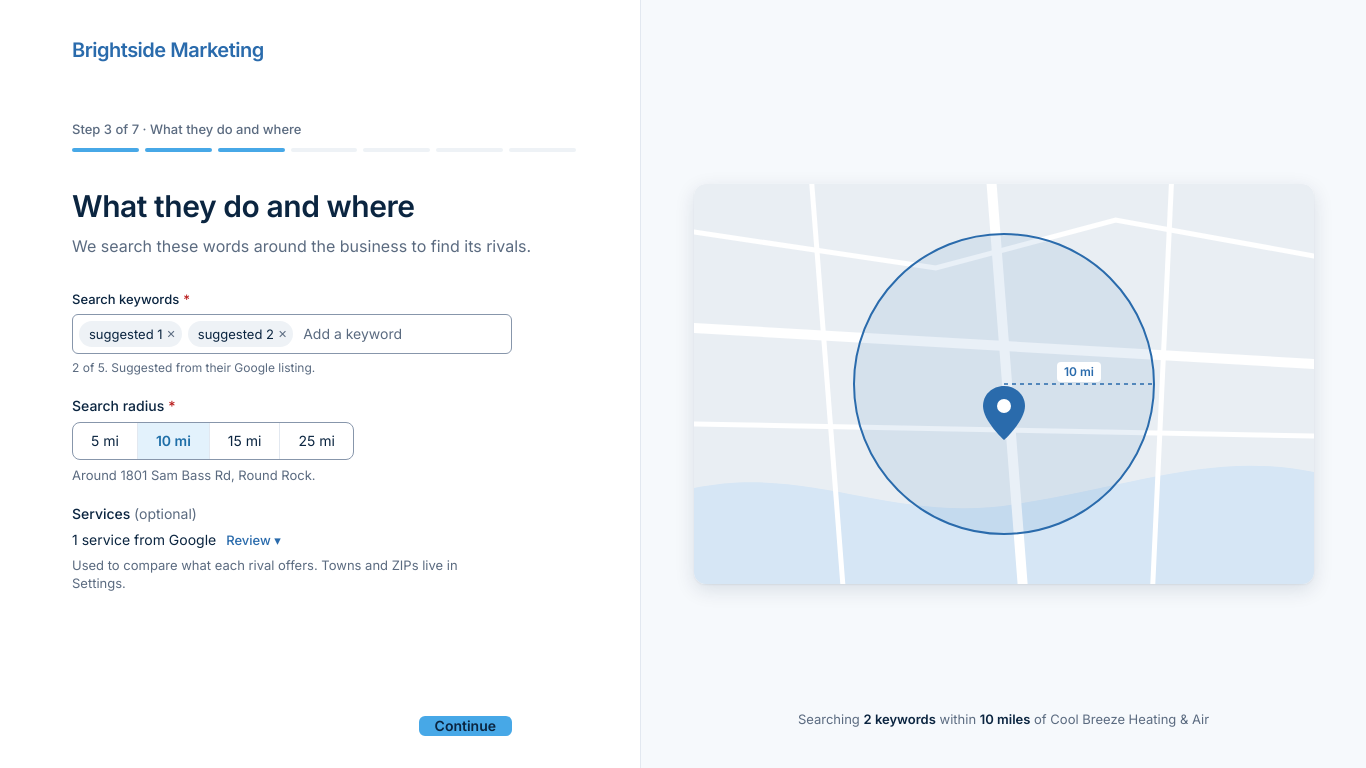
Scenario: AreaStep (client step 3) › services are a collapsed line that opens to the list
The width and height of the screenshot is (1366, 768).
Expected: the text "1 service from Google" is shown, [72, 530, 216, 550]
Click the button "Review ▾" at (254, 540), box [226, 531, 281, 549]
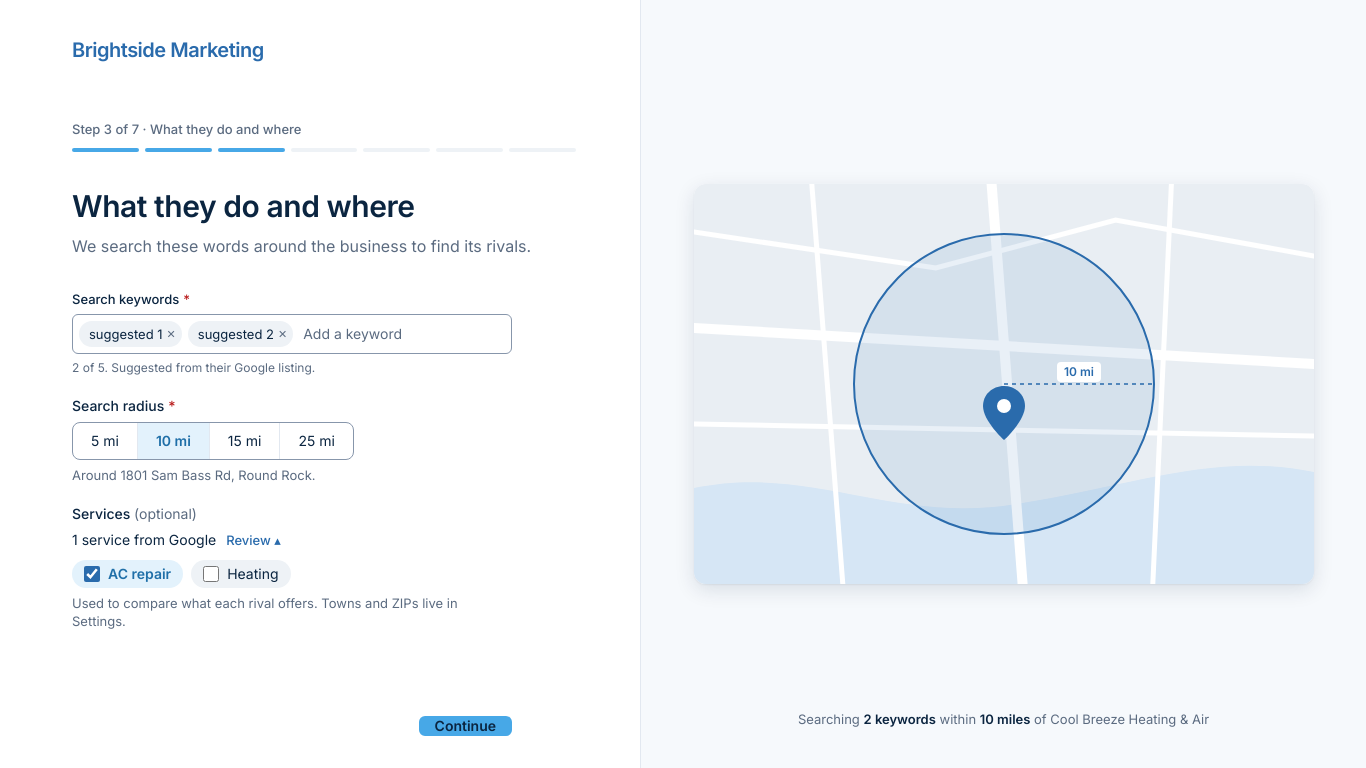
Expected: the checkbox labelled "AC repair" is checked, [84, 566, 100, 582]
Expected: the checkbox labelled "Heating" is not checked, [203, 566, 219, 582]
Expected: the element named "Services the business offers" is shown, [72, 560, 290, 588]
